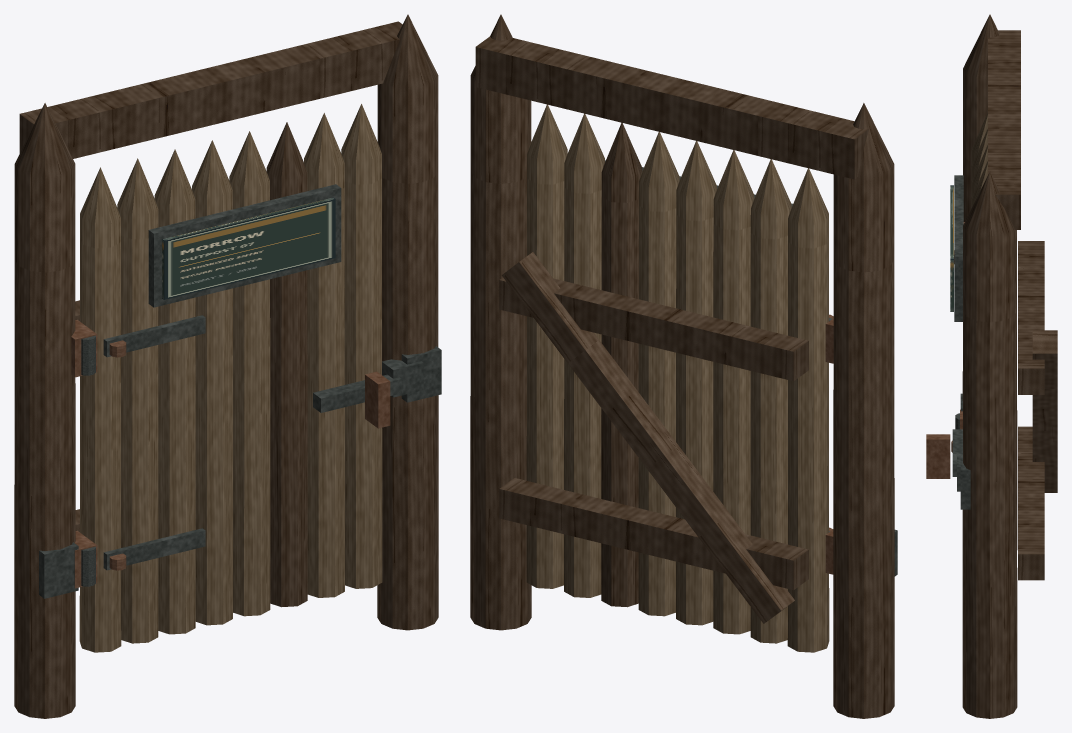
The model's file is PZ_Palisade_Gate_2m_Hinged.glb.
3 renders of one model, left to right at view 1: azimuth 30°, elevation 25°; view 2: azimuth 150°, elevation 25°; view 3: azimuth 270°, elevation 25°, orthographic. The views are drawn at different scales.
Visible parts, largest first — view 1: GATE_FRAME__Foundation_Post_1, GATE_FRAME__Foundation_Post_2, GATE_FRAME__Top_Lintel, GATE_LEAF__Wood_Log_01, GATE_LEAF__Wood_Log_08, GATE_LEAF__Wood_Log_02, GATE_LEAF__Wood_Log_06, GATE_LEAF__Wood_Log_05, GATE_LEAF__Wood_Log_07, GATE_LEAF__Wood_Log_04, GATE_LEAF__Wood_Log_03, GATE_LEAF__Outpost_07_Sign (+9 smaller); view 2: GATE_FRAME__Foundation_Post_1, GATE_FRAME__Foundation_Post_2, GATE_FRAME__Top_Lintel, GATE_LEAF__Wood_Log_01, GATE_LEAF__Diagonal_Brace, GATE_LEAF__Wood_Log_03, GATE_LEAF__Wood_Log_08, GATE_LEAF__Wood_Log_02, GATE_LEAF__Wood_Log_07, GATE_LEAF__Wood_Log_04, GATE_LEAF__Wood_Log_06, GATE_LEAF__Wood_Log_05 (+2 smaller); view 3: GATE_FRAME__Foundation_Post_2, GATE_FRAME__Top_Lintel, GATE_LEAF__Timber_Crossbrace_2, GATE_LEAF__Timber_Crossbrace_1, GATE_LEAF__Diagonal_Brace, GATE_FRAME__Foundation_Post_1, GATE_LEAF__Name_Plate_Back, GATE_LEAF__Latch_Handle, GATE_LEAF__Outpost_07_Sign, GATE_FRAME__Iron_Hinge_Socket_2, GATE_LEAF__Latch_Bar, GATE_LEAF__Wood_Log_01 (+2 smaller).
Boxes of the visible parts, x1=… form: GATE_FRAME__Foundation_Post_1: x1=14, y1=103, x2=75, y2=718; GATE_FRAME__Foundation_Post_2: x1=377, y1=14, x2=438, y2=630; GATE_FRAME__Top_Lintel: x1=19, y1=21, x2=402, y2=158; GATE_LEAF__Wood_Log_01: x1=79, y1=167, x2=121, y2=652; GATE_LEAF__Wood_Log_08: x1=341, y1=104, x2=382, y2=588; GATE_LEAF__Wood_Log_02: x1=117, y1=158, x2=158, y2=643; GATE_LEAF__Wood_Log_06: x1=266, y1=122, x2=307, y2=607; GATE_LEAF__Wood_Log_05: x1=229, y1=131, x2=270, y2=616; GATE_LEAF__Wood_Log_07: x1=304, y1=113, x2=344, y2=597; GATE_LEAF__Wood_Log_04: x1=192, y1=140, x2=232, y2=625; GATE_LEAF__Wood_Log_03: x1=154, y1=149, x2=195, y2=634; GATE_LEAF__Outpost_07_Sign: x1=162, y1=197, x2=335, y2=299; GATE_FRAME__Foundation_Post_1: x1=833, y1=103, x2=894, y2=718; GATE_FRAME__Foundation_Post_2: x1=470, y1=14, x2=531, y2=630; GATE_FRAME__Top_Lintel: x1=475, y1=36, x2=868, y2=179; GATE_LEAF__Wood_Log_01: x1=787, y1=168, x2=829, y2=652; GATE_LEAF__Diagonal_Brace: x1=501, y1=252, x2=794, y2=623; GATE_LEAF__Wood_Log_03: x1=713, y1=150, x2=754, y2=634; GATE_LEAF__Wood_Log_08: x1=526, y1=104, x2=567, y2=588; GATE_LEAF__Wood_Log_02: x1=750, y1=159, x2=791, y2=643; GATE_LEAF__Wood_Log_07: x1=564, y1=113, x2=604, y2=597; GATE_LEAF__Wood_Log_04: x1=676, y1=141, x2=716, y2=625; GATE_LEAF__Wood_Log_06: x1=601, y1=122, x2=642, y2=607; GATE_LEAF__Wood_Log_05: x1=638, y1=132, x2=679, y2=616; GATE_FRAME__Foundation_Post_2: x1=962, y1=172, x2=1017, y2=718; GATE_FRAME__Top_Lintel: x1=988, y1=30, x2=1020, y2=229; GATE_LEAF__Timber_Crossbrace_2: x1=1018, y1=241, x2=1044, y2=394; GATE_LEAF__Timber_Crossbrace_1: x1=1018, y1=426, x2=1044, y2=580; GATE_LEAF__Diagonal_Brace: x1=1032, y1=330, x2=1057, y2=492; GATE_FRAME__Foundation_Post_1: x1=962, y1=14, x2=1017, y2=549; GATE_LEAF__Name_Plate_Back: x1=954, y1=175, x2=963, y2=321; GATE_LEAF__Latch_Handle: x1=926, y1=434, x2=950, y2=478; GATE_LEAF__Outpost_07_Sign: x1=950, y1=185, x2=953, y2=311; GATE_FRAME__Iron_Hinge_Socket_2: x1=960, y1=455, x2=970, y2=509; GATE_LEAF__Latch_Bar: x1=952, y1=429, x2=962, y2=476; GATE_LEAF__Wood_Log_01: x1=971, y1=112, x2=987, y2=165.
Size of the model in its own units: 2.06 by 2.86 by 0.6345.
Materials: 5 (5 with a texture image).
